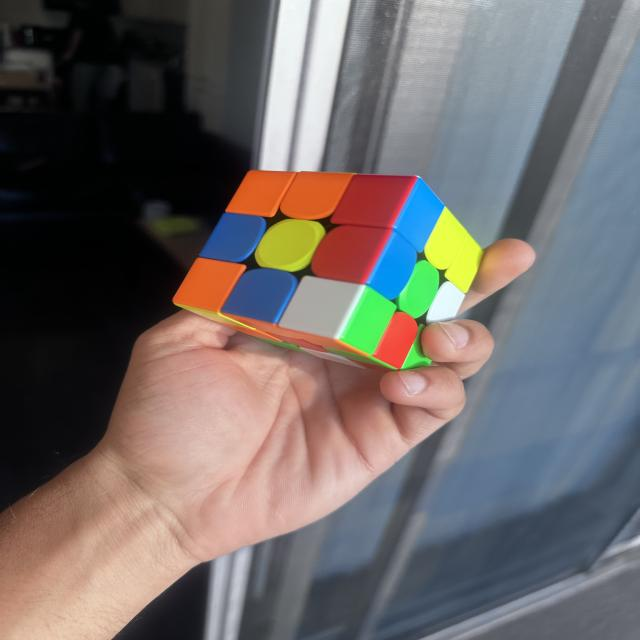sticker: (310, 224, 403, 294), (281, 274, 368, 339), (331, 173, 418, 231), (331, 324, 426, 372), (172, 256, 246, 316), (336, 287, 400, 356), (223, 266, 299, 323), (254, 216, 327, 274), (280, 169, 355, 221), (364, 230, 419, 300), (392, 179, 444, 249), (227, 169, 297, 219), (200, 213, 266, 265), (424, 209, 476, 275), (396, 260, 440, 319), (374, 311, 420, 367), (442, 230, 481, 291), (424, 279, 466, 324), (400, 328, 434, 371)
